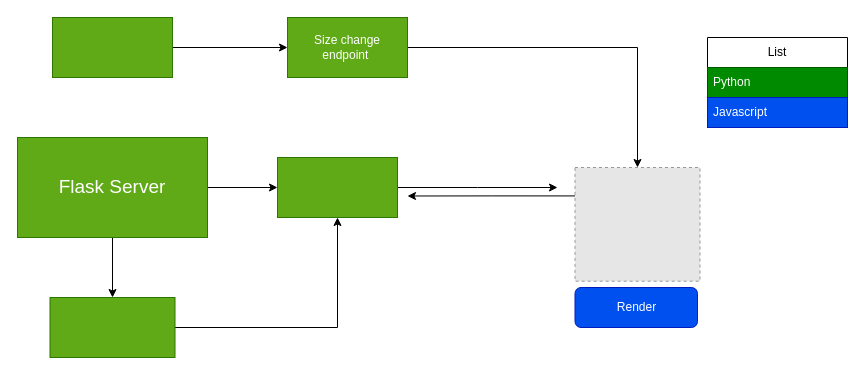
This 865x375 diagram has some shape labels left out. Grey dashed boxes stand in for pictures. Each missing label, with the centre of its shape:
"Color/ Size calcucaion" goes at (x=112, y=327).
"Endpoint/ Mushroom Data" goes at (x=337, y=187).
"size change Payload" goes at (x=112, y=47).
